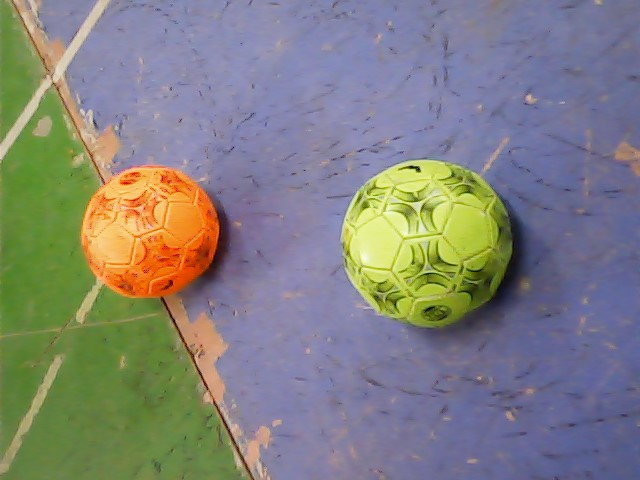Green_ball: (338, 154, 518, 330)
Orange_ball: (78, 163, 229, 298)
